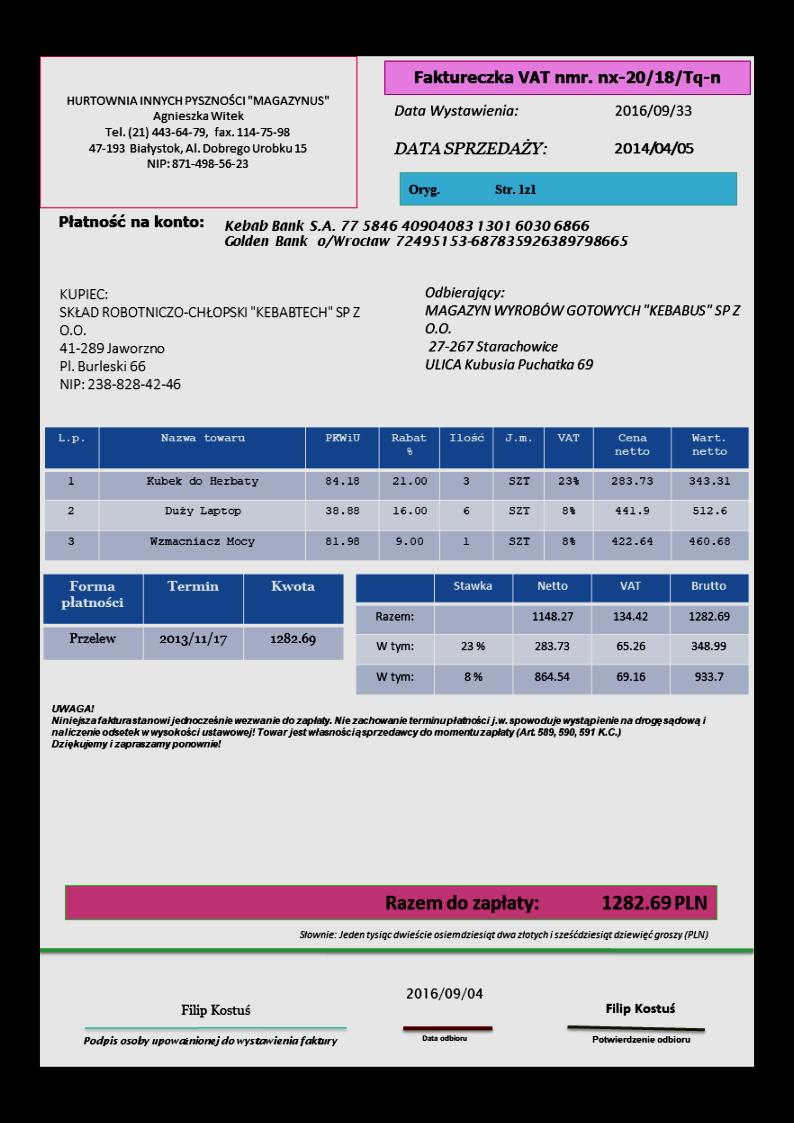Table: (43, 423, 751, 564), (354, 572, 751, 698), (42, 573, 344, 662)
TextBox: (48, 699, 709, 752), (56, 283, 363, 395), (422, 283, 745, 376), (61, 92, 331, 173), (221, 217, 631, 251), (383, 888, 710, 916), (294, 924, 709, 943), (409, 68, 723, 89), (80, 1034, 343, 1050), (391, 135, 548, 160), (52, 211, 205, 233), (403, 178, 538, 200), (389, 98, 519, 120), (610, 136, 697, 159), (403, 980, 487, 1003), (176, 999, 252, 1019), (601, 998, 681, 1016), (590, 1032, 692, 1046), (611, 102, 694, 119), (416, 1030, 472, 1045)
